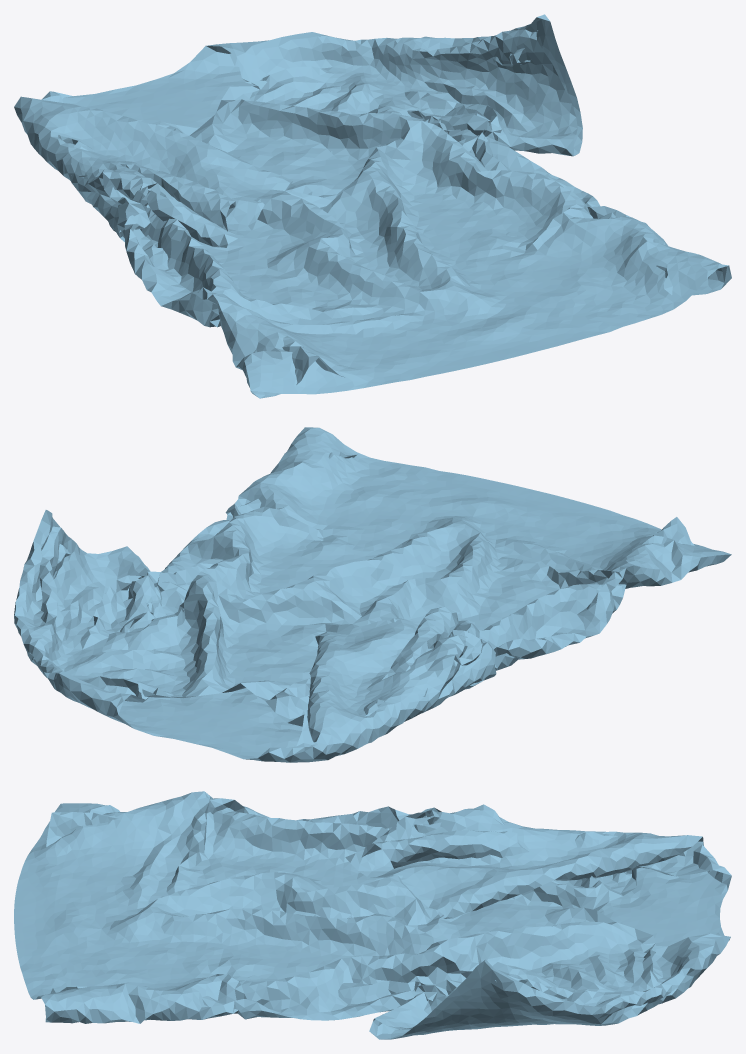
The model's file is frame_04.glb.
3 renders of one model, top to bottom at view 1: azimuth 30°, elevation 25°; view 2: azimuth 150°, elevation 25°; view 3: azimuth 270°, elevation 25°, orthographic. The views are drawn at different scales.
Parts seen in each view (by area): view 1: frame_04.obj; view 2: frame_04.obj; view 3: frame_04.obj.
Part boxes in pixels (<box>): frame_04.obj: <box>14,14,731,398</box>; frame_04.obj: <box>14,427,731,762</box>; frame_04.obj: <box>14,791,731,1039</box>.
Size of the model in its own units: 1.33 by 0.2451 by 1.69.
